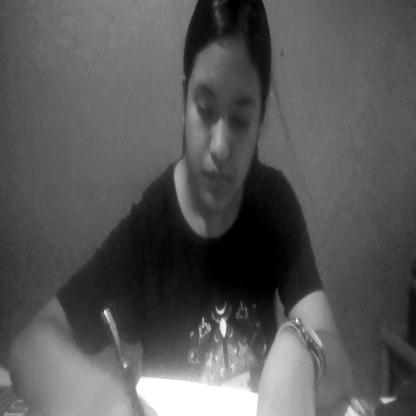Normal: (181, 18, 261, 209)
